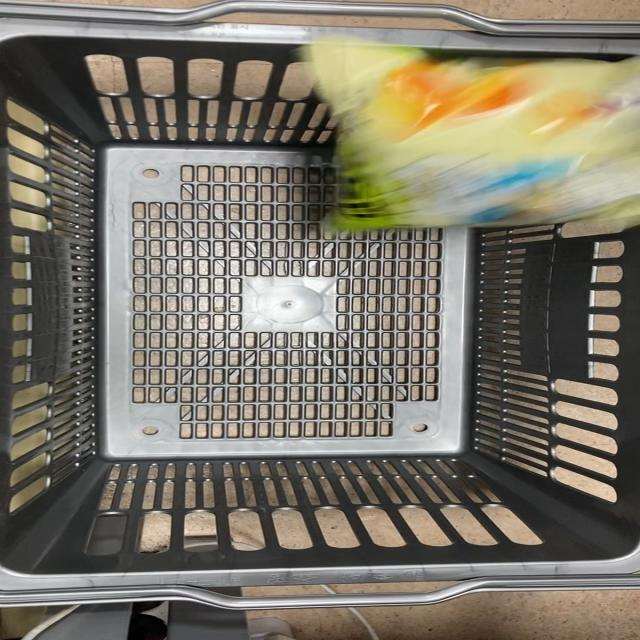ggobukchip: (292, 35, 621, 224)
